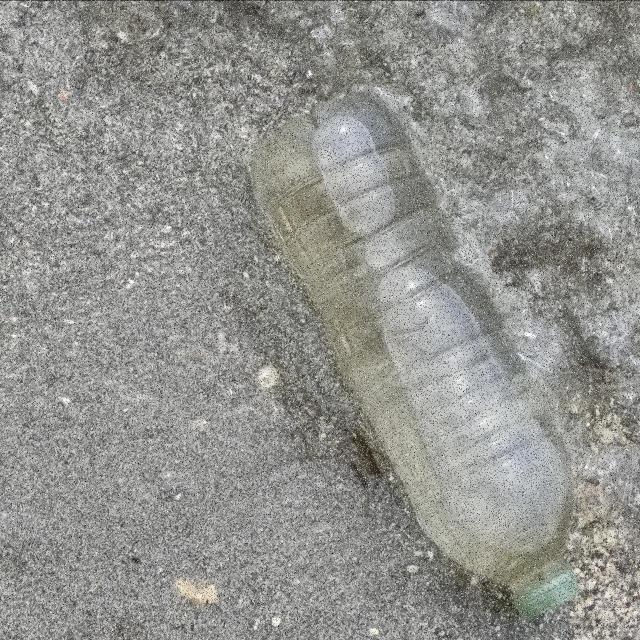plastic_waste: (248, 89, 585, 625)
